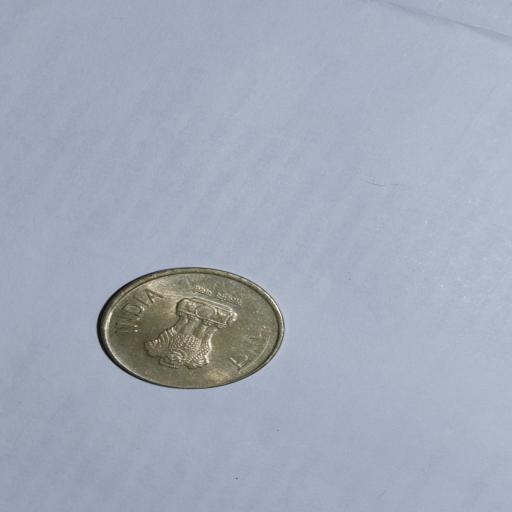rupee5: (96, 265, 289, 388)
